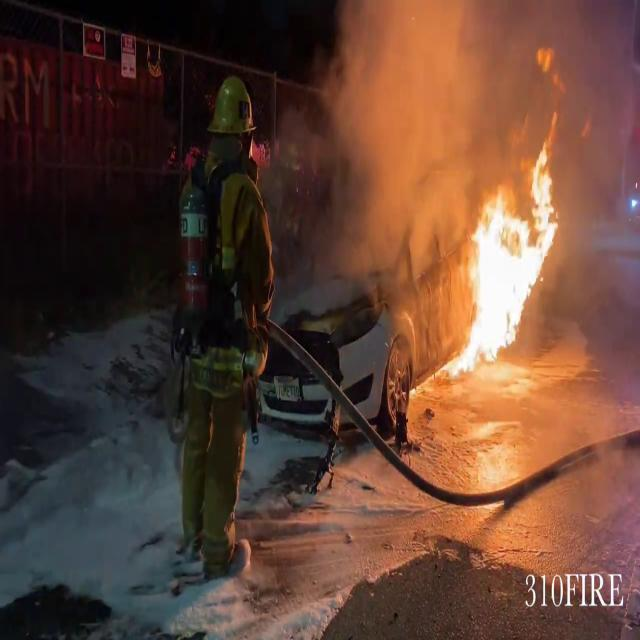Fire: (438, 122, 570, 382)
Smoke: (288, 0, 520, 264)
